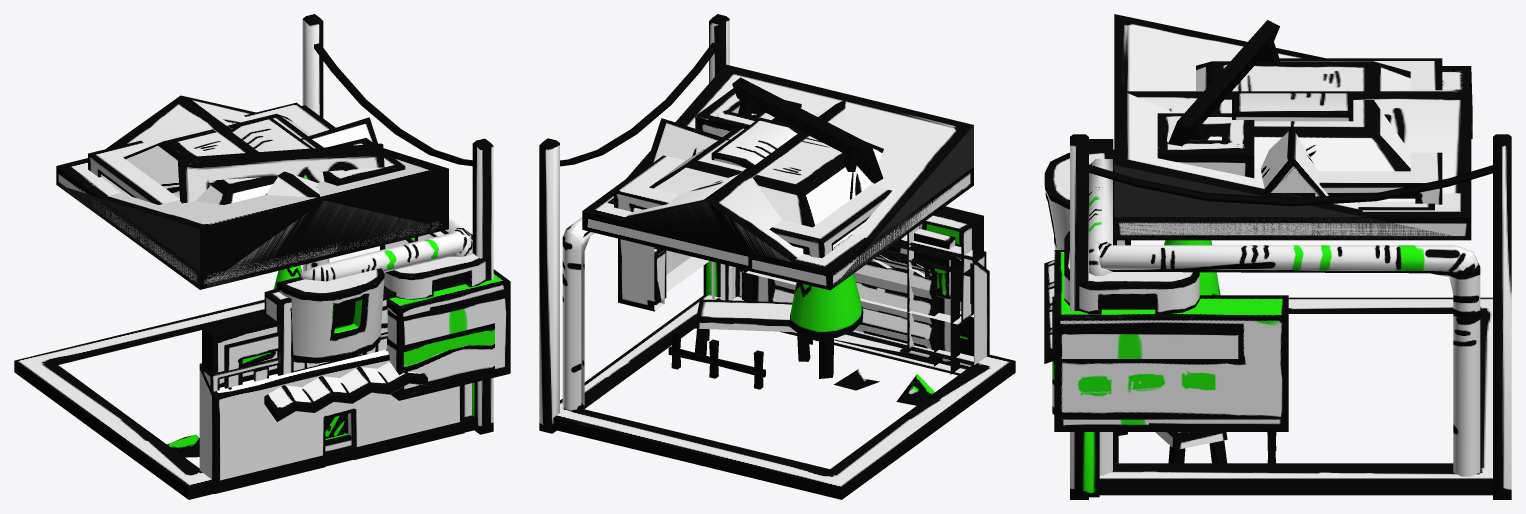
Rendered from House Deko.fbx.
The picture shows the model from 3 angles, left to right: view 1: azimuth 30°, elevation 25°; view 2: azimuth 150°, elevation 25°; view 3: azimuth 270°, elevation 25°; orthographic projection. The views are drawn at different scales.
Parts seen in each view (by area): view 1: Dach 3, Vosrpung, Rand, Dach 1, Fenster 4, Strom Masten, Dach Deko 3, Dach 4, Balkon, Ecke 2, markt Dach, Dach 6 (+13 smaller); view 2: Rand, Dach 3, Dach 4, Dach 1, Strom Masten, tOR, Dach 5, Dach Deko 2, Dach 6, Rinne 1, Baum, Dach Deko 3 (+18 smaller); view 3: Ecke 3, Dach 3, Rand, Rinne 1, Strom Masten, Dach 4, Dach 5, Balkon, Dach 1, Dach Deko 2, Ecke 1, Dach Deko 1 (+11 smaller).
Boxes of the visible parts, x1=… form: Dach 3: x1=57, y1=148, x2=448, y2=289; Vosrpung: x1=199, y1=349, x2=464, y2=493; Rand: x1=14, y1=299, x2=477, y2=499; Dach 1: x1=105, y1=95, x2=447, y2=288; Fenster 4: x1=276, y1=268, x2=384, y2=363; Strom Masten: x1=302, y1=14, x2=493, y2=434; Dach Deko 3: x1=177, y1=143, x2=384, y2=203; Dach 4: x1=102, y1=113, x2=324, y2=204; Balkon: x1=380, y1=240, x2=510, y2=400; Ecke 2: x1=387, y1=323, x2=494, y2=395; markt Dach: x1=264, y1=361, x2=427, y2=422; Dach 6: x1=57, y1=158, x2=448, y2=289; Rand: x1=553, y1=294, x2=1015, y2=499; Dach 3: x1=626, y1=64, x2=973, y2=288; Dach 4: x1=634, y1=114, x2=883, y2=249; Dach 1: x1=621, y1=99, x2=845, y2=261; Strom Masten: x1=539, y1=14, x2=729, y2=433; tOR: x1=769, y1=255, x2=935, y2=364; Dach 5: x1=582, y1=179, x2=953, y2=289; Dach Deko 2: x1=614, y1=155, x2=891, y2=257; Dach 6: x1=748, y1=167, x2=973, y2=290; Rinne 1: x1=562, y1=217, x2=594, y2=410; Baum: x1=789, y1=273, x2=863, y2=378; Dach Deko 3: x1=732, y1=77, x2=883, y2=183; Ecke 3: x1=1054, y1=250, x2=1288, y2=419; Dach 3: x1=1114, y1=14, x2=1467, y2=239; Rand: x1=1099, y1=297, x2=1492, y2=495; Rinne 1: x1=1089, y1=159, x2=1480, y2=476; Strom Masten: x1=1070, y1=134, x2=1511, y2=499; Dach 4: x1=1196, y1=61, x2=1415, y2=201; Dach 5: x1=1114, y1=193, x2=1471, y2=240; Balkon: x1=1054, y1=262, x2=1288, y2=431; Dach 1: x1=1125, y1=89, x2=1471, y2=193; Dach Deko 2: x1=1279, y1=58, x2=1442, y2=204; Ecke 1: x1=1064, y1=224, x2=1199, y2=314; Dach Deko 1: x1=1157, y1=113, x2=1254, y2=178.
Size of the model in its own units: 187 by 167 by 194.
